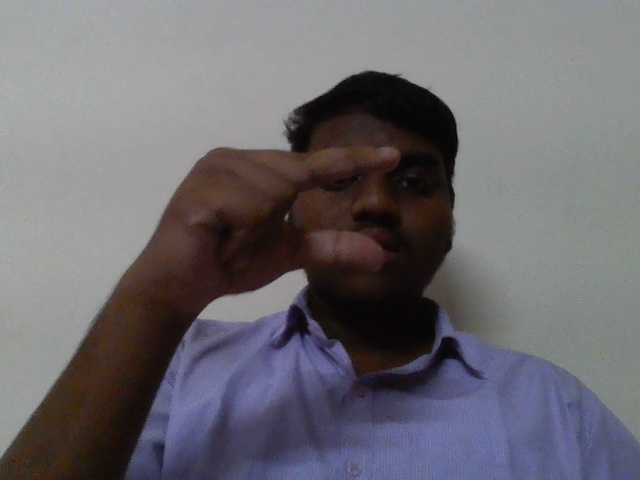No: (135, 130, 420, 317)
